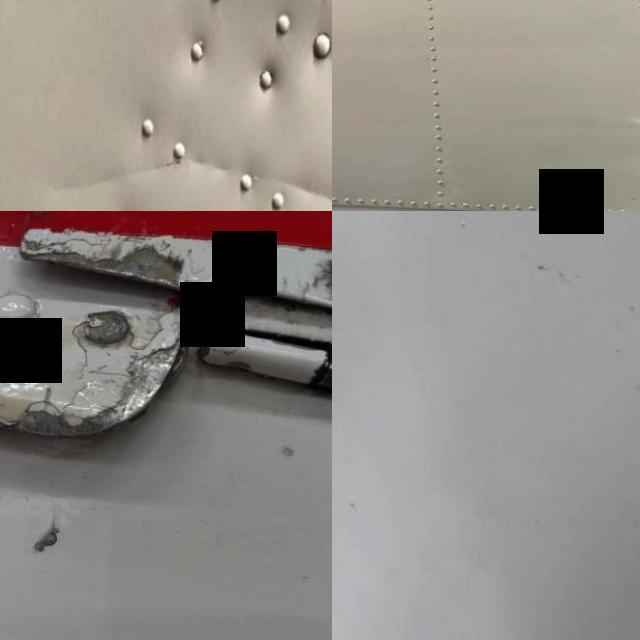Crack: (0, 218, 231, 466), (4, 509, 92, 554), (317, 230, 332, 356)
Dent: (187, 150, 332, 205), (47, 149, 171, 191)
